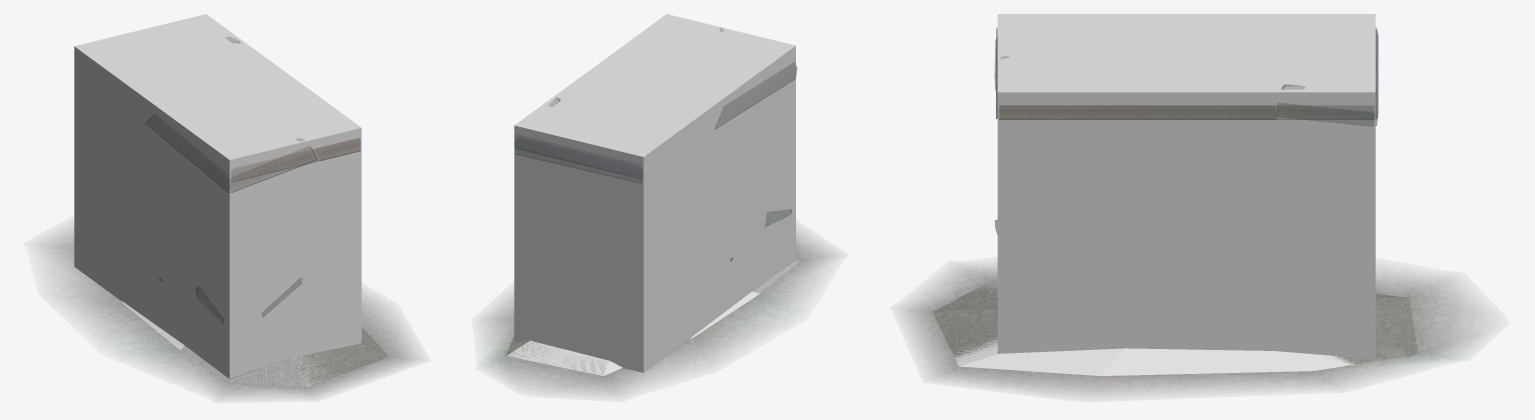
Rendered from source.glb.
3 views of the same model, side by side, from view 1: azimuth 30°, elevation 25°; view 2: azimuth 150°, elevation 25°; view 3: azimuth 270°, elevation 25° (orthographic). The views are drawn at different scales.
Parts seen in each view (by area): view 1: coll_m206_0, state1_obj_f324f0, state2_obj_f45e30, state2_coll_m10a_0, state1_obj_f338d0, obj_f2e6d0; view 2: coll_m206_0, state1_obj_f324f0, state2_obj_f45e30, state1_obj_f338d0, state2_coll_m10a_0, obj_f2e6d0; view 3: coll_m206_0, state1_obj_f324f0, state2_coll_m10a_0, state2_obj_f45e30, state1_obj_f338d0, obj_f2e6d0.
Part boxes in pixels (box(x1,y1,x2,y2)): coll_m206_0: box(74, 14, 361, 379); state1_obj_f324f0: box(57, 237, 408, 393); state2_obj_f45e30: box(67, 244, 401, 392); state2_coll_m10a_0: box(121, 301, 388, 387); state1_obj_f338d0: box(145, 37, 360, 324); obj_f2e6d0: box(231, 138, 360, 181); coll_m206_0: box(514, 14, 795, 372); state1_obj_f324f0: box(492, 235, 825, 388); state2_obj_f45e30: box(496, 245, 815, 384); state1_obj_f338d0: box(515, 28, 797, 226); state2_coll_m10a_0: box(506, 256, 800, 375); obj_f2e6d0: box(515, 135, 642, 178); coll_m206_0: box(997, 14, 1375, 358); state1_obj_f324f0: box(912, 270, 1460, 388); state2_coll_m10a_0: box(932, 279, 1417, 375); state2_obj_f45e30: box(918, 272, 1447, 384); state1_obj_f338d0: box(994, 30, 1378, 234); obj_f2e6d0: box(996, 27, 1377, 119).
Bounding box in the file's own units: 402 × 304 × 634.
17 materials, 17 textured.
